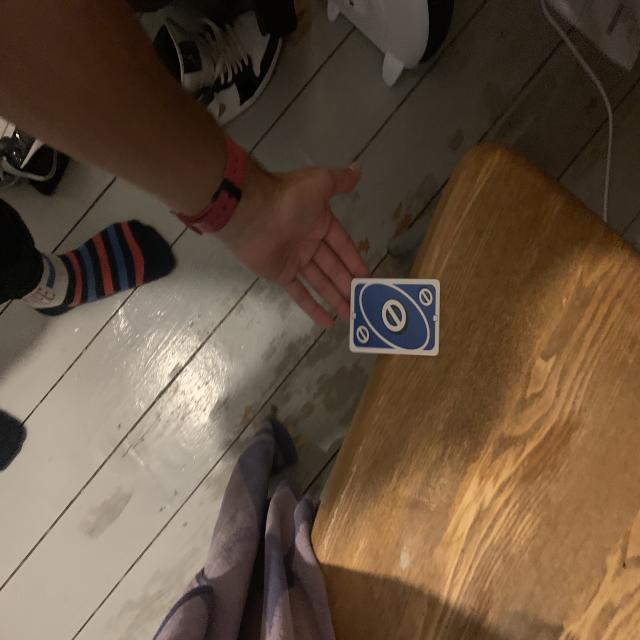lblueskip-20: (416, 286, 437, 311)
